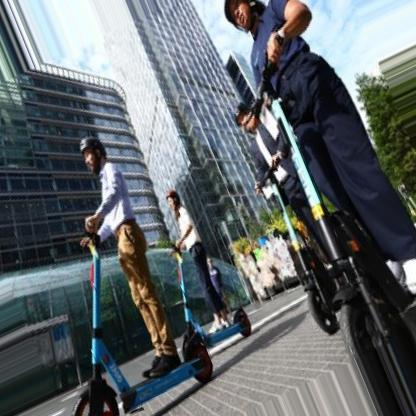scooter: (71, 218, 214, 416), (167, 241, 252, 364)
with helmet: (224, 1, 264, 33), (78, 136, 106, 177), (164, 190, 181, 210)
